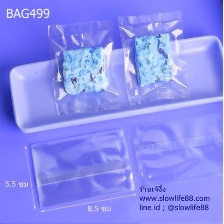snack: (42, 15, 123, 122), (114, 7, 196, 110)
